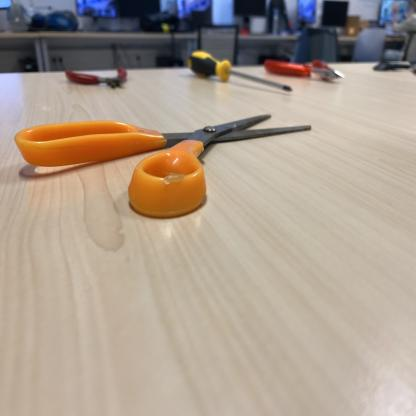scissors: (15, 114, 313, 218)
